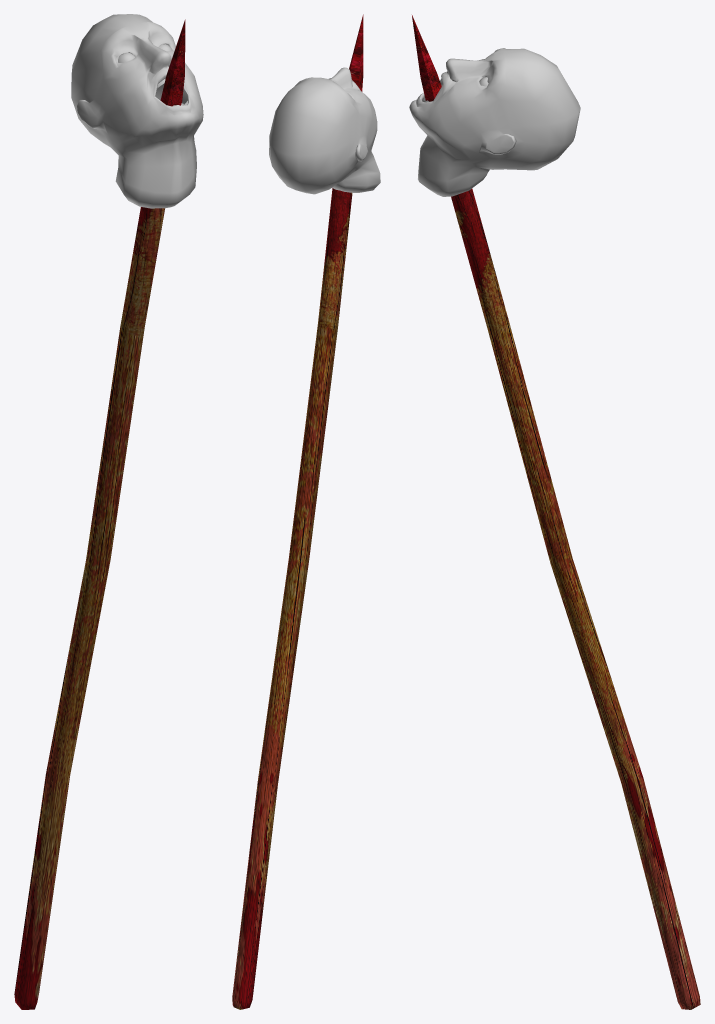
The model's file is severed_exp_04.fbx.
The picture shows the model from 3 angles, left to right: view 1: azimuth 30°, elevation 25°; view 2: azimuth 150°, elevation 25°; view 3: azimuth 270°, elevation 25°; orthographic projection. The views are drawn at different scales.
Parts seen in each view (by area): view 1: severed_exp_04; view 2: severed_exp_04; view 3: severed_exp_04.
Boxes of the visible parts, x1=… form: severed_exp_04: x1=14, y1=14, x2=203, y2=1009; severed_exp_04: x1=232, y1=14, x2=380, y2=1009; severed_exp_04: x1=409, y1=15, x2=700, y2=1009.
Size of the model in its own units: 0.2194 by 2.18 by 0.5759.
